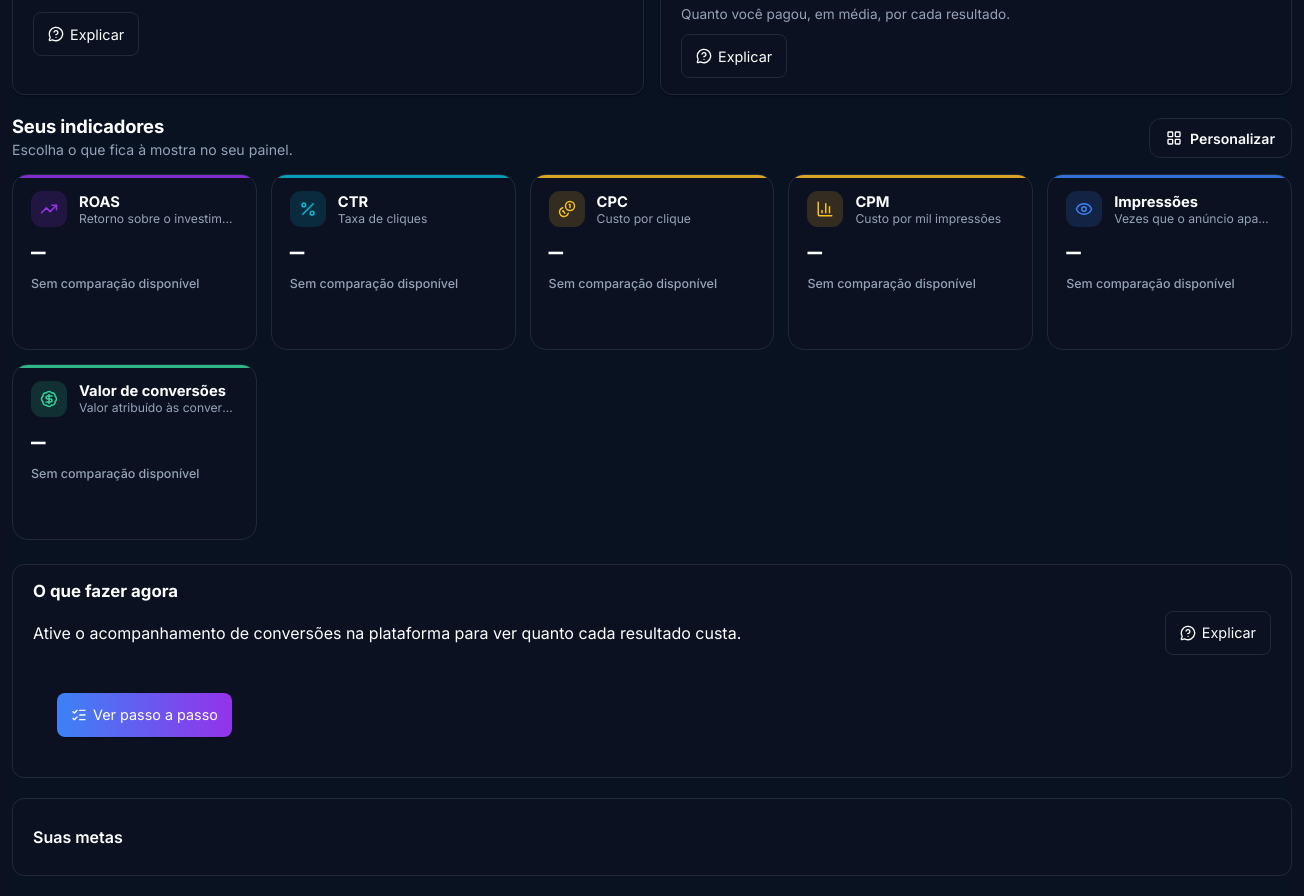
Scenario: SimpleOverview › generates a step by step for an action and lets the user tick a step
(page scrolled)
What coordinates should you click on to do the following:
click the button "Ver passo a passo"
I would click on:
 (144, 714)
Its box is [57,692,232,736].
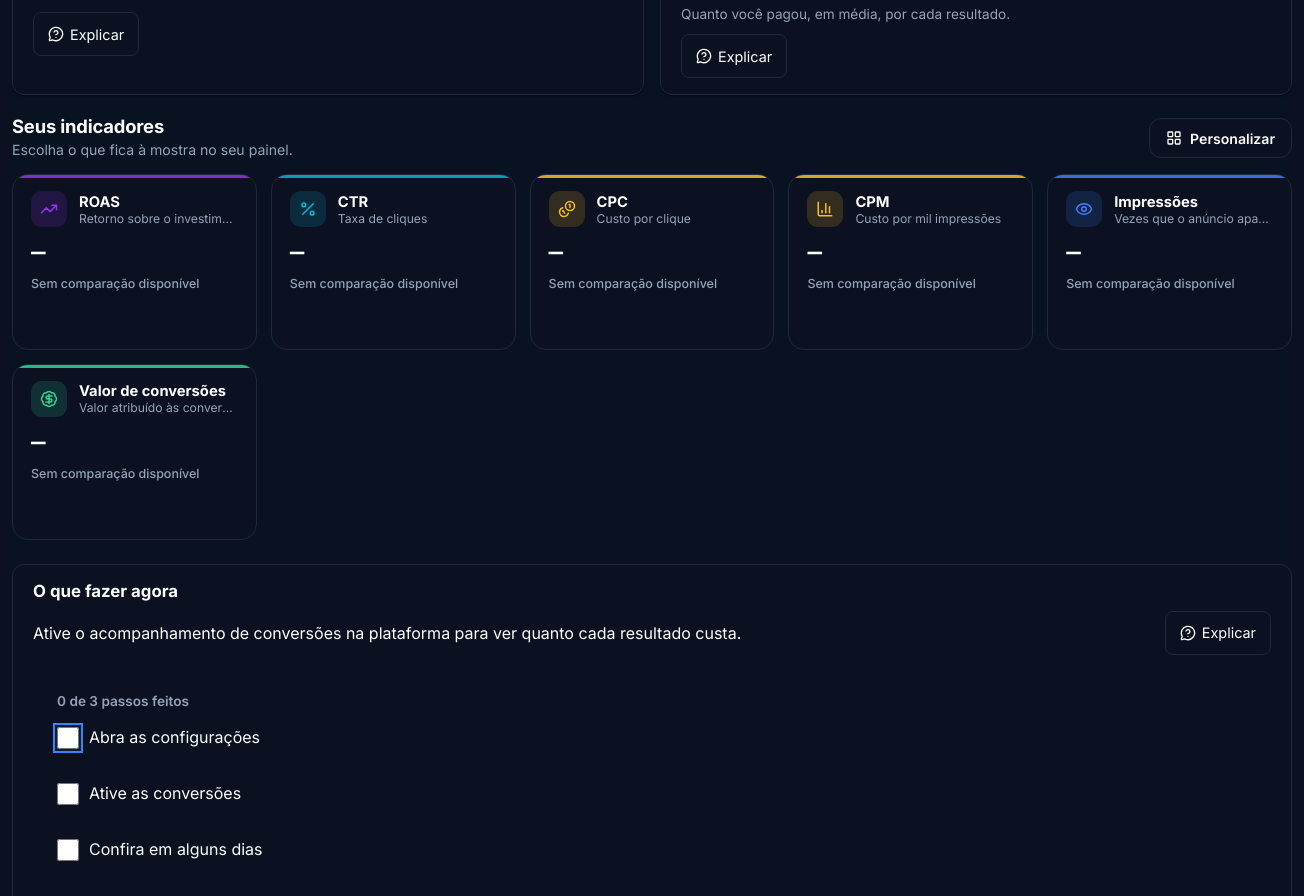
Result: the checkbox labelled "Abra as configurações" is shown
What coordinates should you click on to do the following:
click the checkbox labelled "Abra as configurações"
I would click on:
 (68, 738)
Its box is [57,726,79,748].
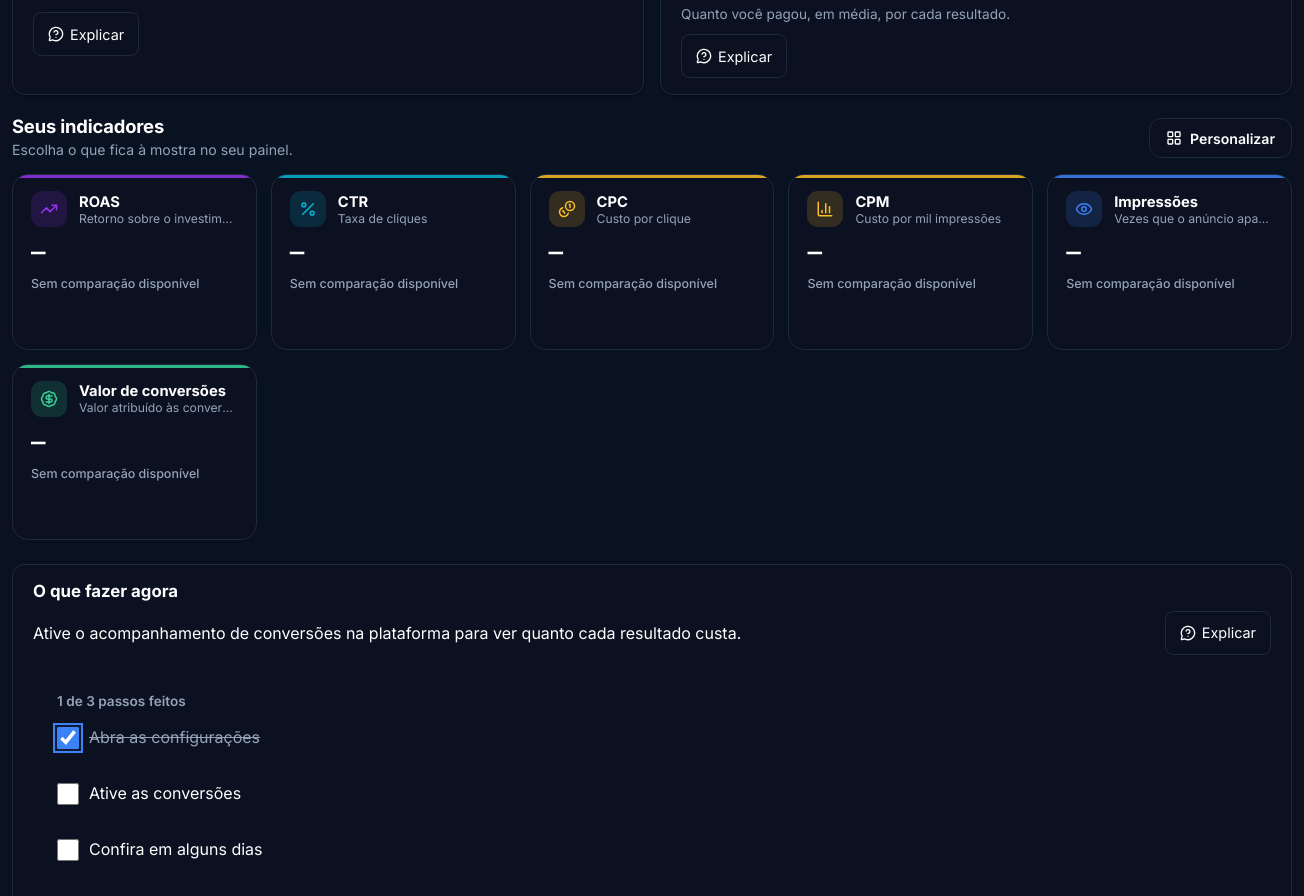
Result: the text "1 de 3 passos feitos" is shown at [57,692,186,708]
